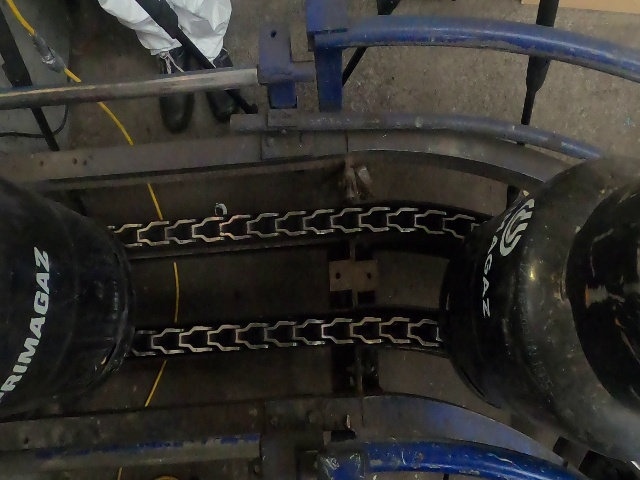gas_bottle: (0, 1, 629, 480)
